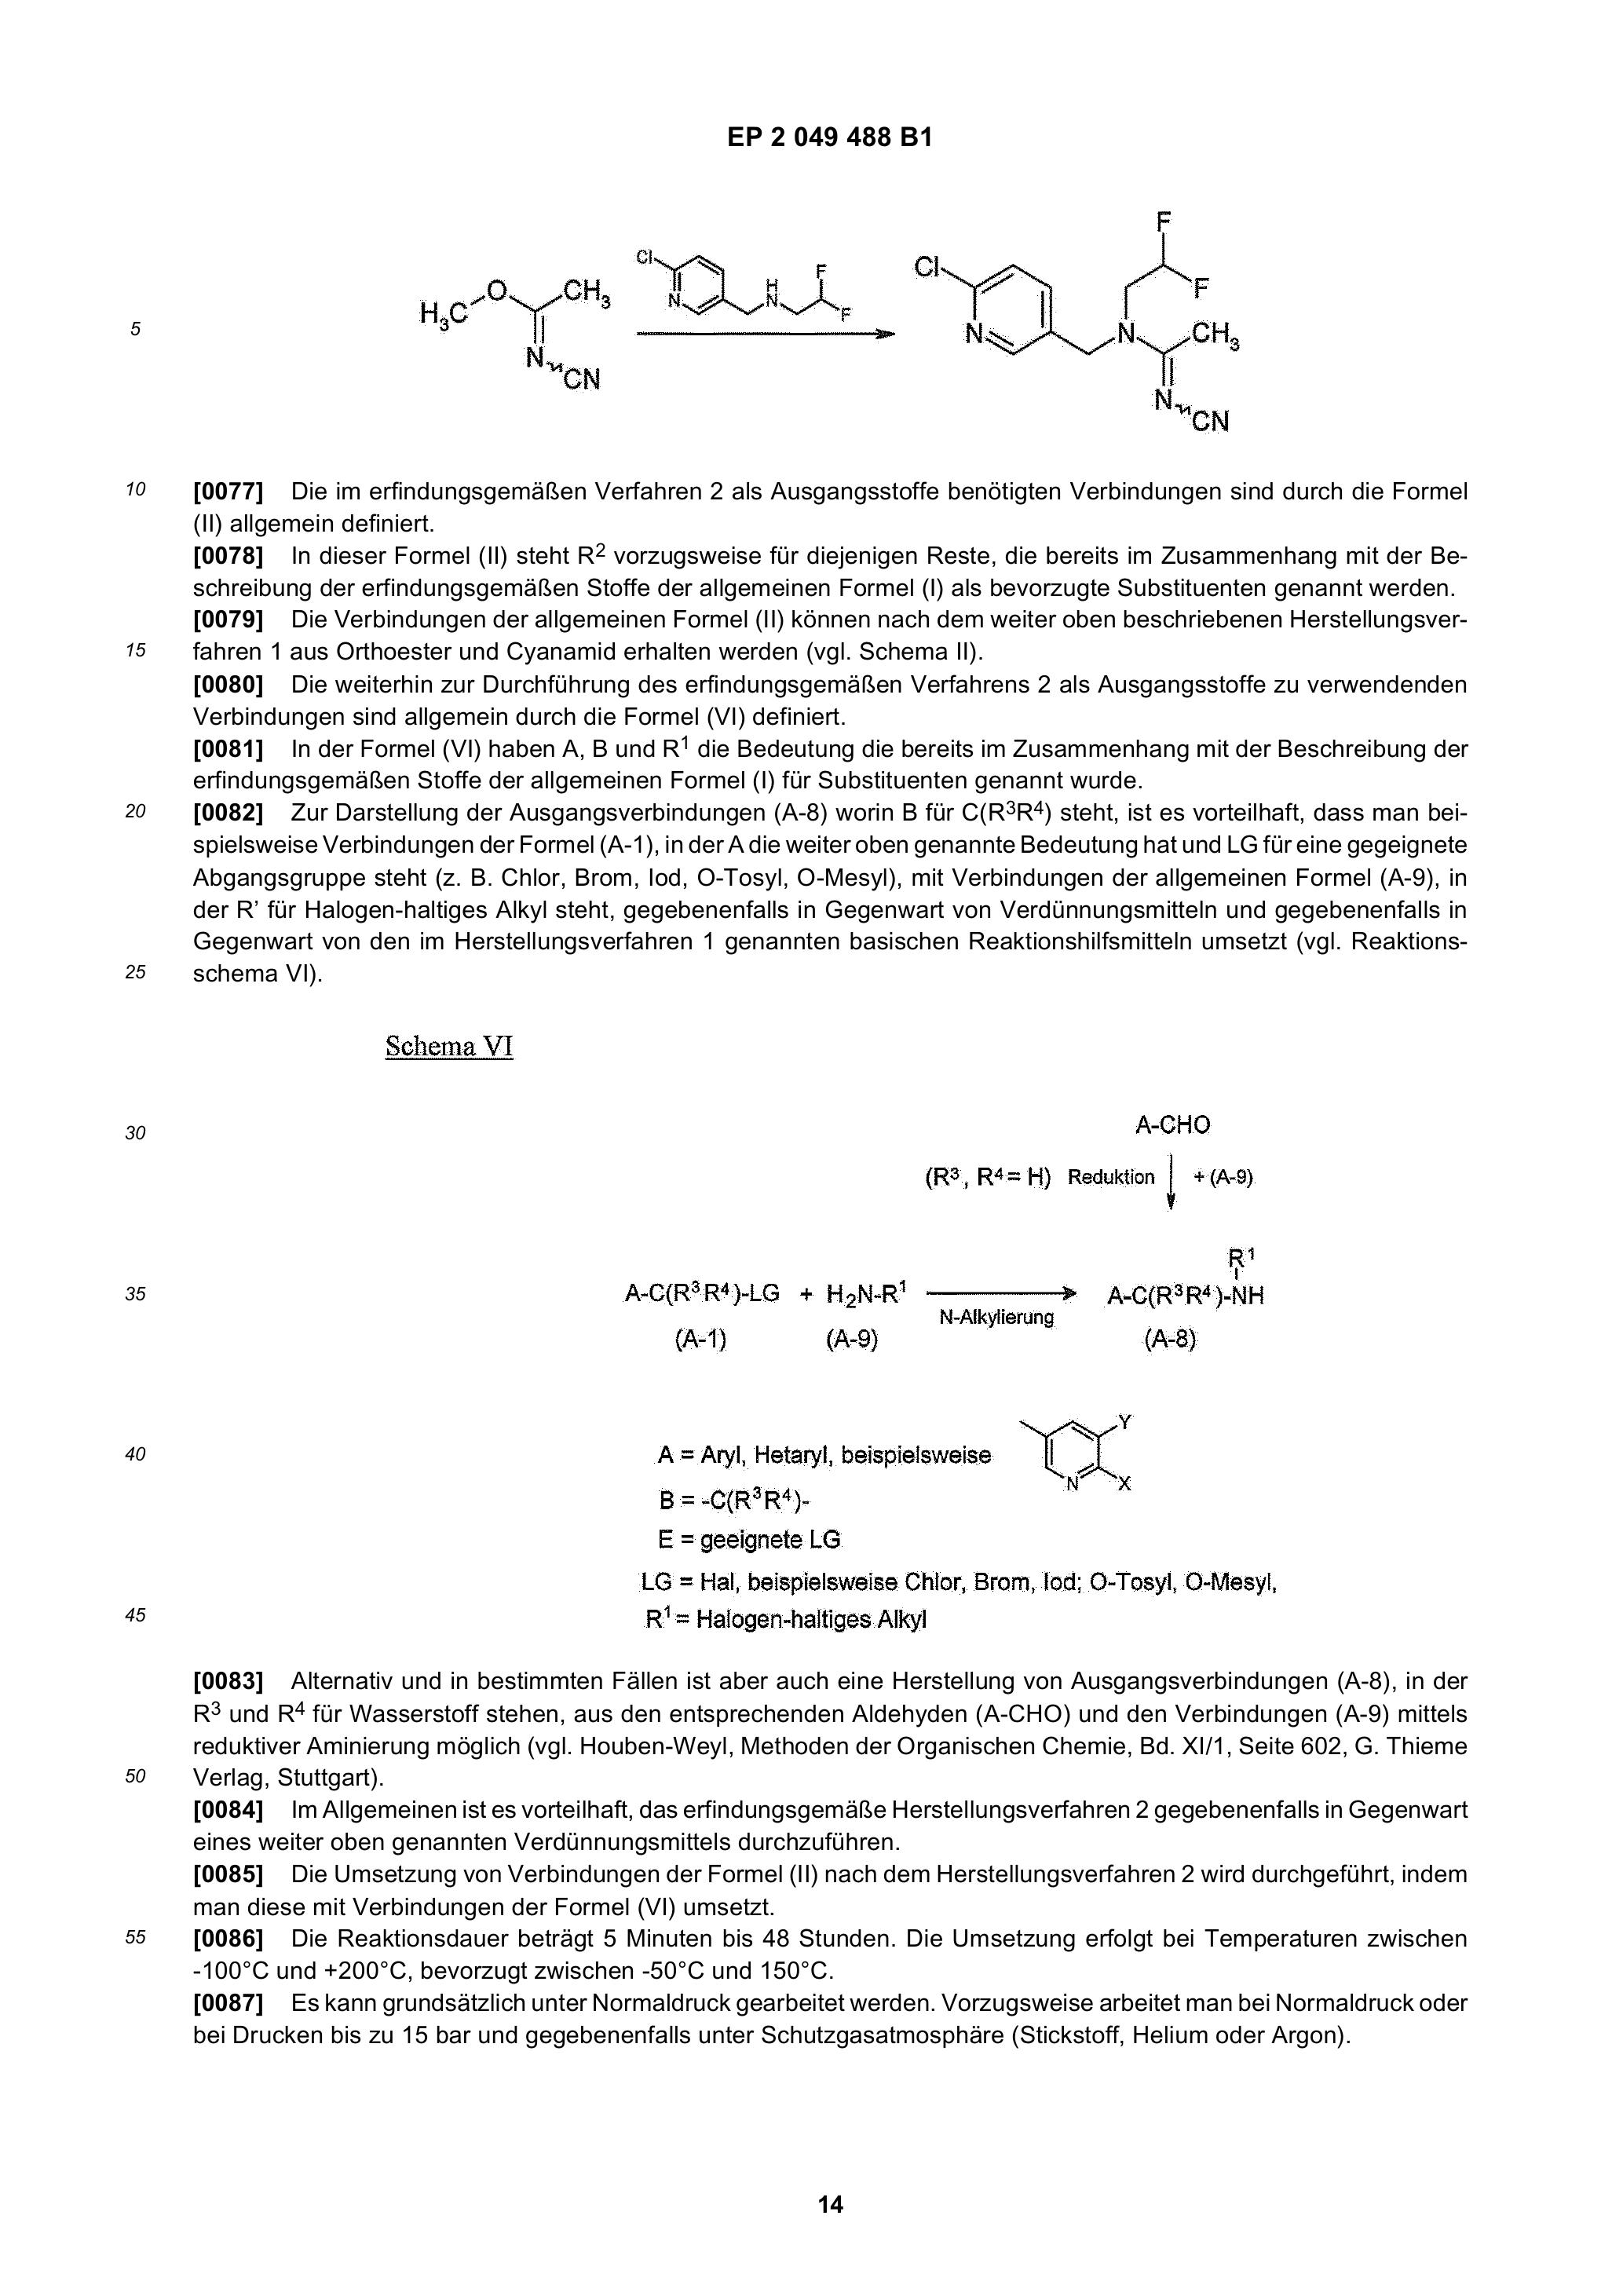reactions: (594, 1031, 1337, 1644), (397, 195, 1335, 464)
